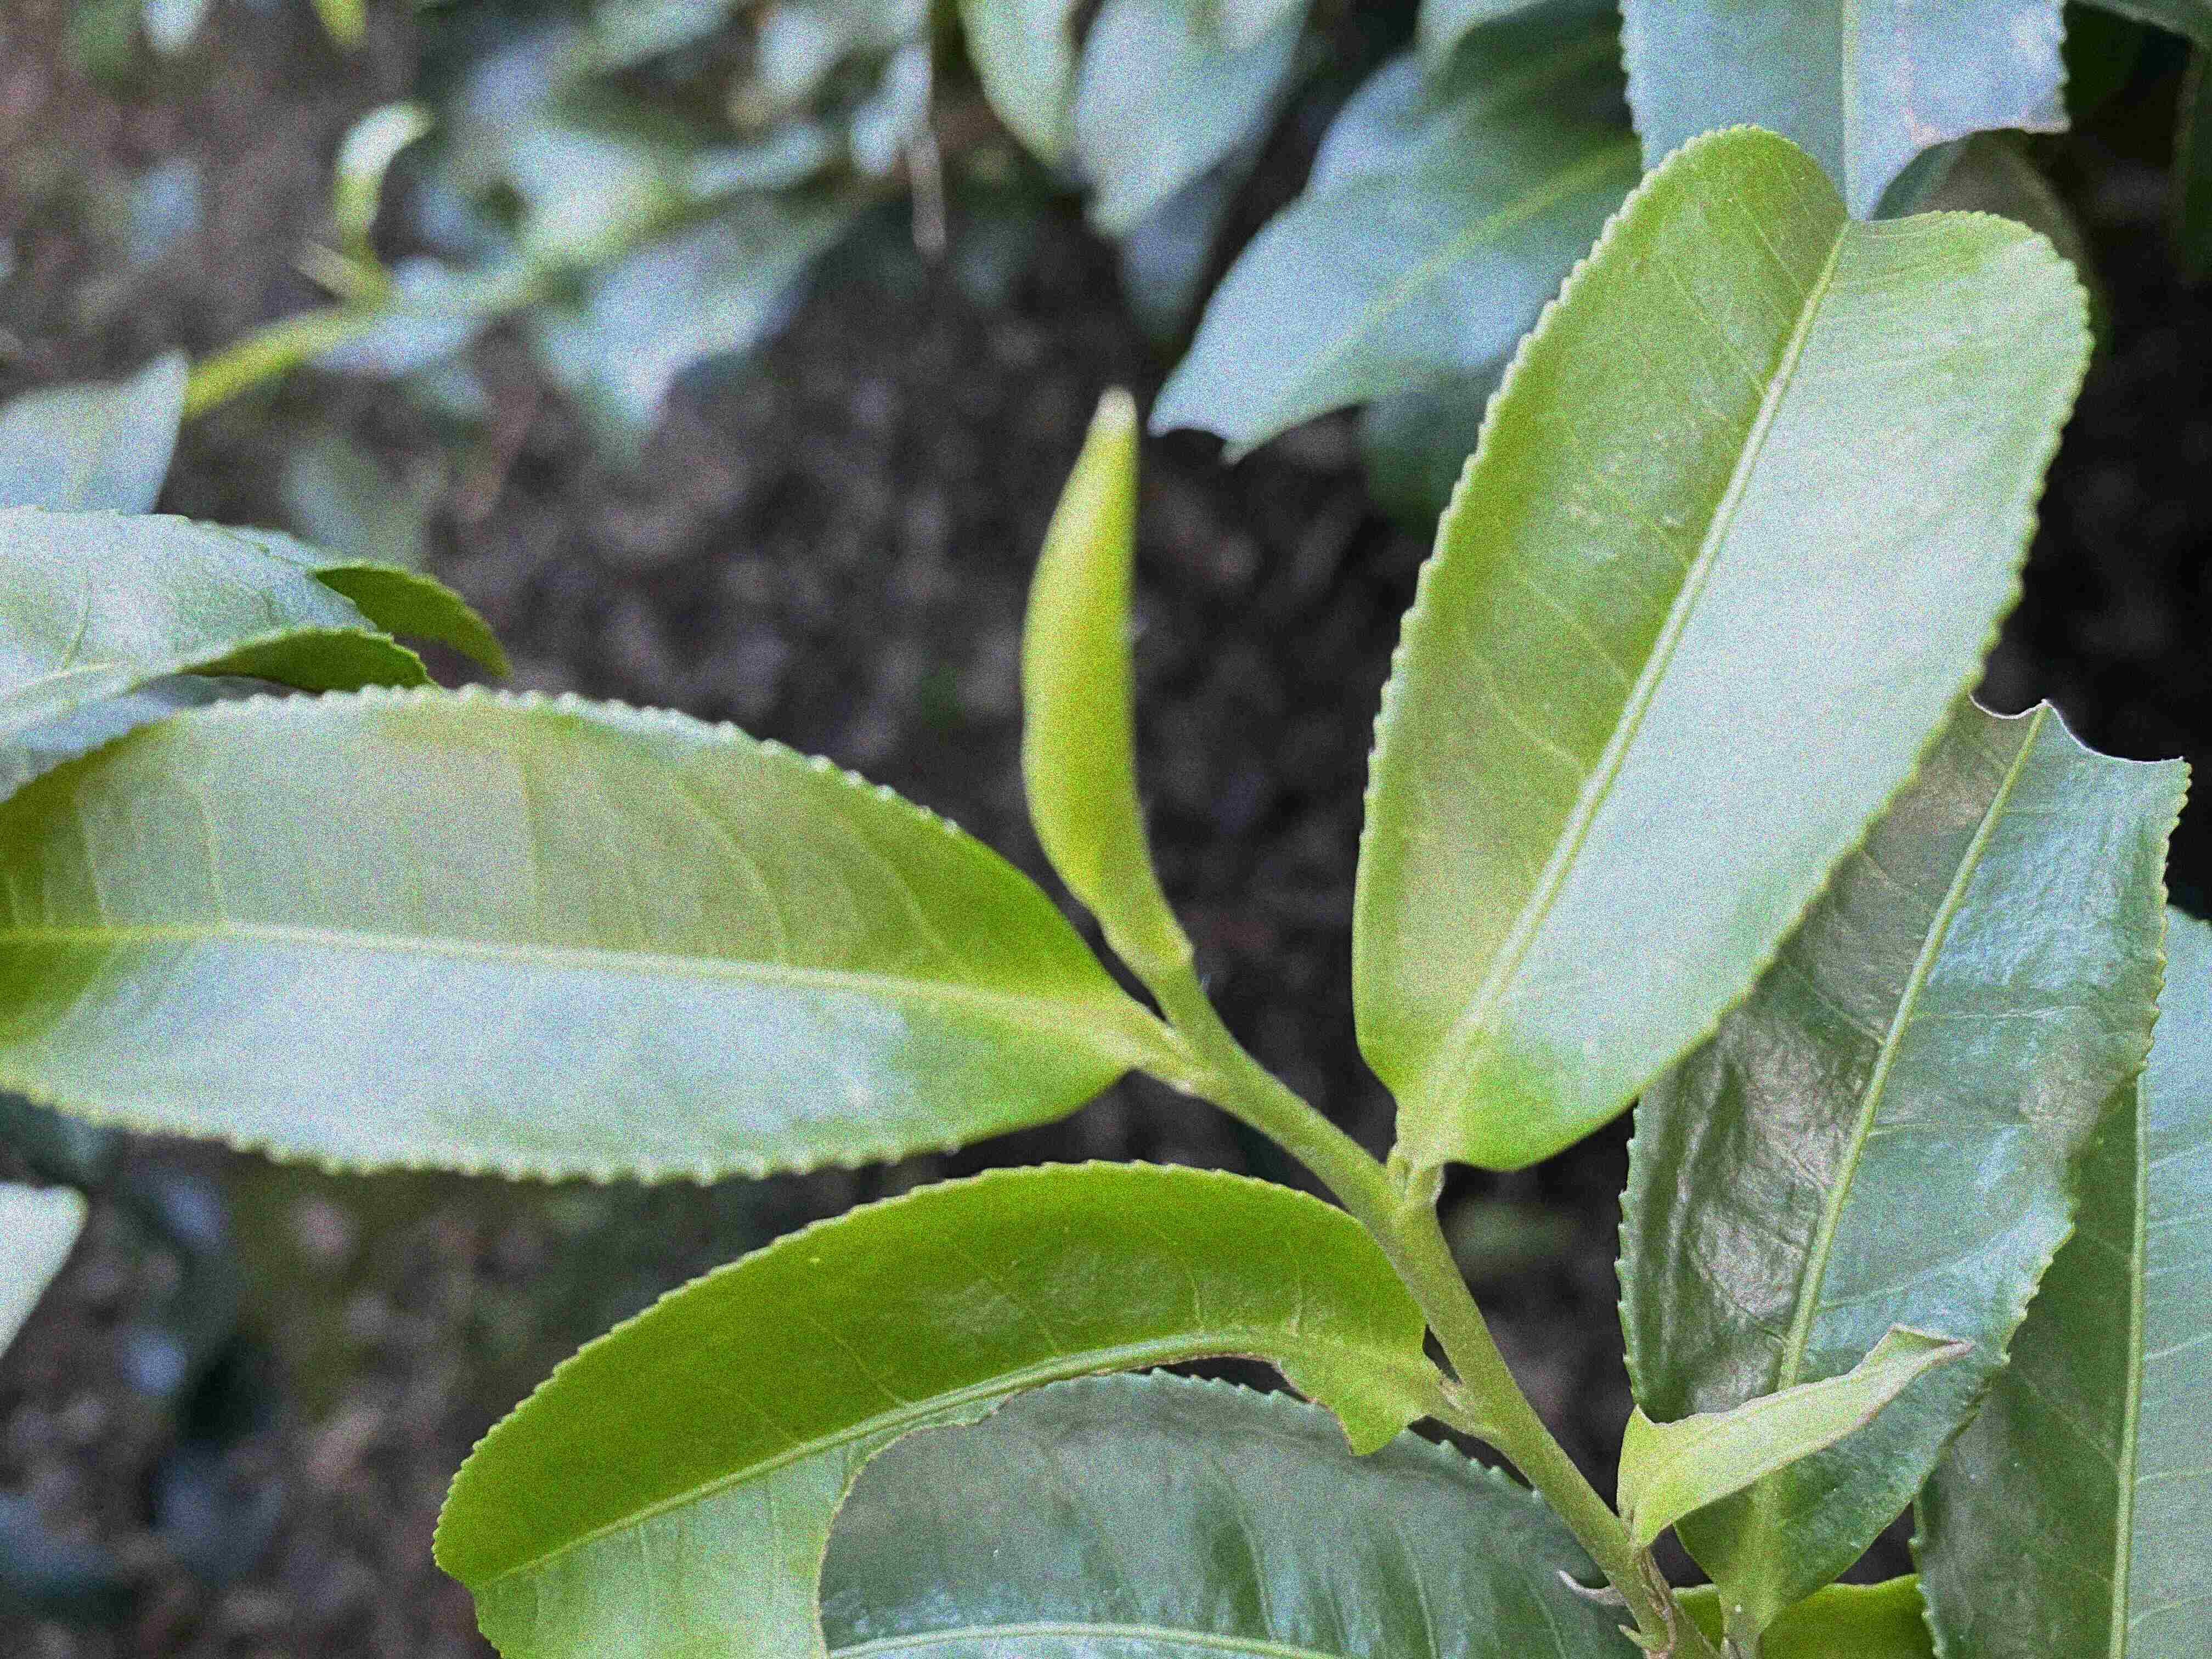chihuo_high: (1611, 692, 2195, 1605), (427, 1154, 1430, 1657), (1609, 1323, 1973, 1539)
healthy: (1348, 124, 2097, 1171), (2, 676, 1141, 1182)
